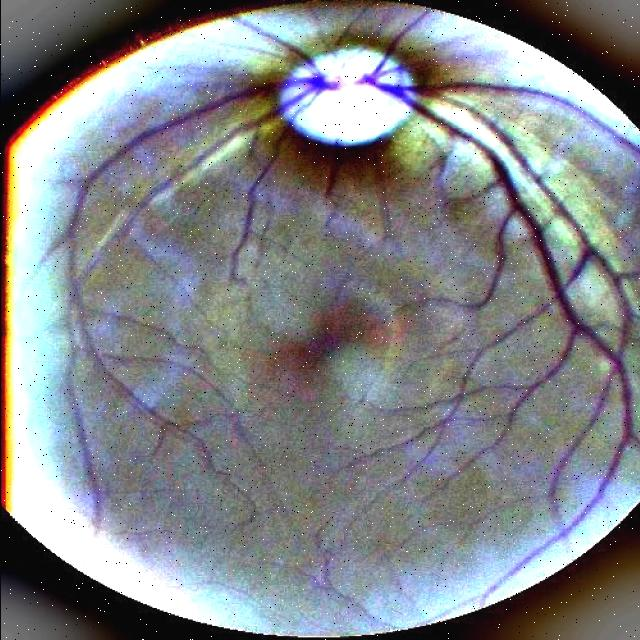Macula: (276, 312, 373, 388)
Nerves: (44, 60, 401, 517), (370, 78, 640, 546)
Optic Disk: (250, 17, 423, 163)
